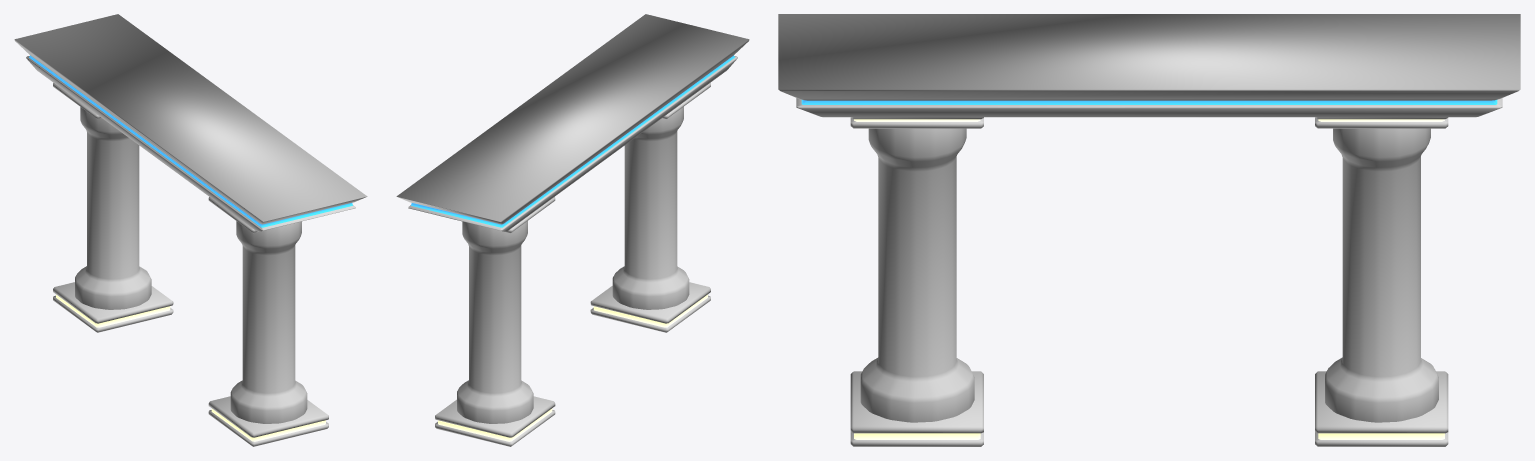
File: Gate.fbx
The picture shows the model from 3 angles, left to right: view 1: azimuth 30°, elevation 25°; view 2: azimuth 150°, elevation 25°; view 3: azimuth 270°, elevation 25°; orthographic projection. The views are drawn at different scales.
Visible parts, largest first — view 1: Main Roof, Pillars; view 2: Main Roof, Pillars; view 3: Main Roof, Pillars.
Part boxes in pixels (x1,y1,x2,y2): Main Roof: [14, 14, 367, 231]; Pillars: [53, 83, 328, 446]; Main Roof: [396, 14, 749, 231]; Pillars: [435, 83, 710, 446]; Main Roof: [778, 14, 1520, 117]; Pillars: [850, 117, 1448, 446].
Size of the model in its own units: 309 by 700 by 1280.
